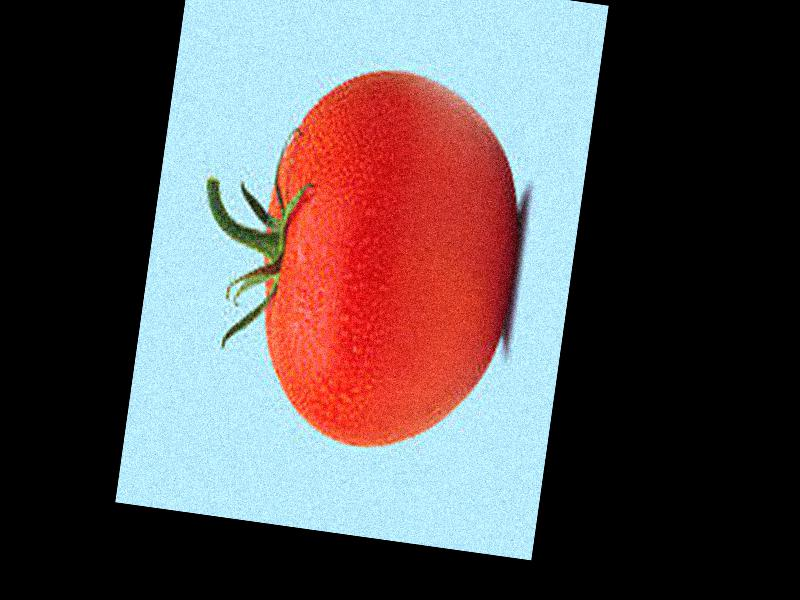Tomato: (240, 58, 534, 464)
